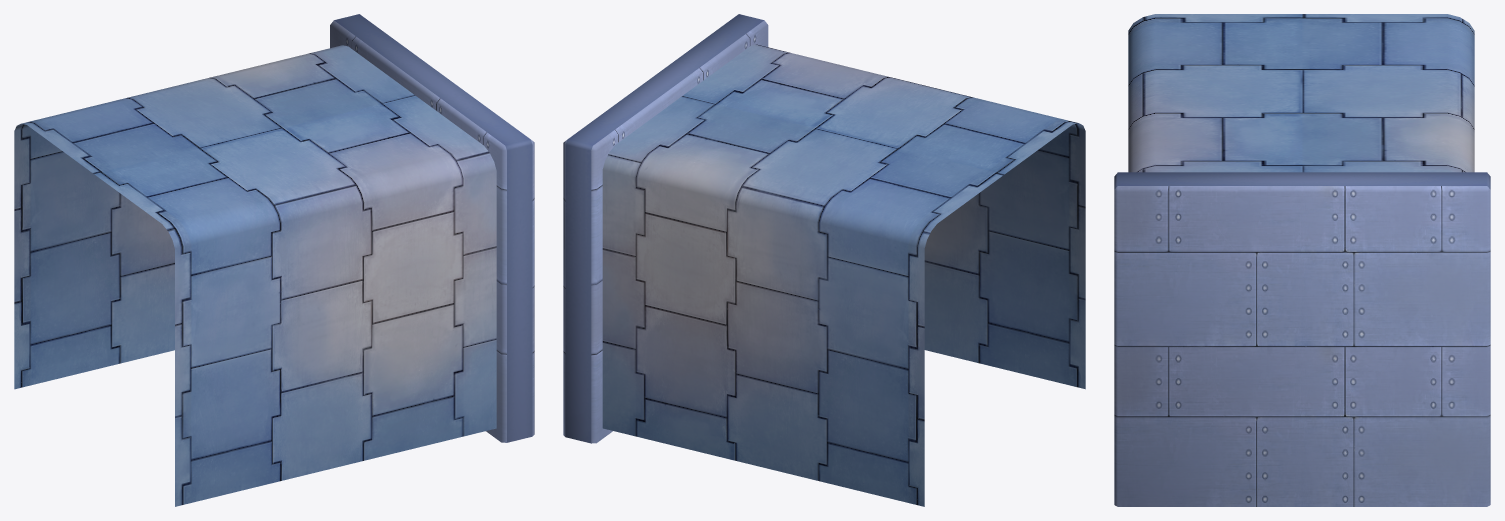
Rendered from RestPlatformHalf.FBX.
3 views of the same model, side by side, from view 1: azimuth 30°, elevation 25°; view 2: azimuth 150°, elevation 25°; view 3: azimuth 270°, elevation 25° (orthographic). The views are drawn at different scales.
Visible parts, largest first — view 1: Box217; view 2: Box217; view 3: Box217.
Boxes of the visible parts, left/top/right/bottom form: Box217: left=14, top=14, right=534, bottom=506; Box217: left=563, top=14, right=1085, bottom=506; Box217: left=1114, top=14, right=1490, bottom=506.
Bounding box in the file's own units: 145 × 115 × 123.
